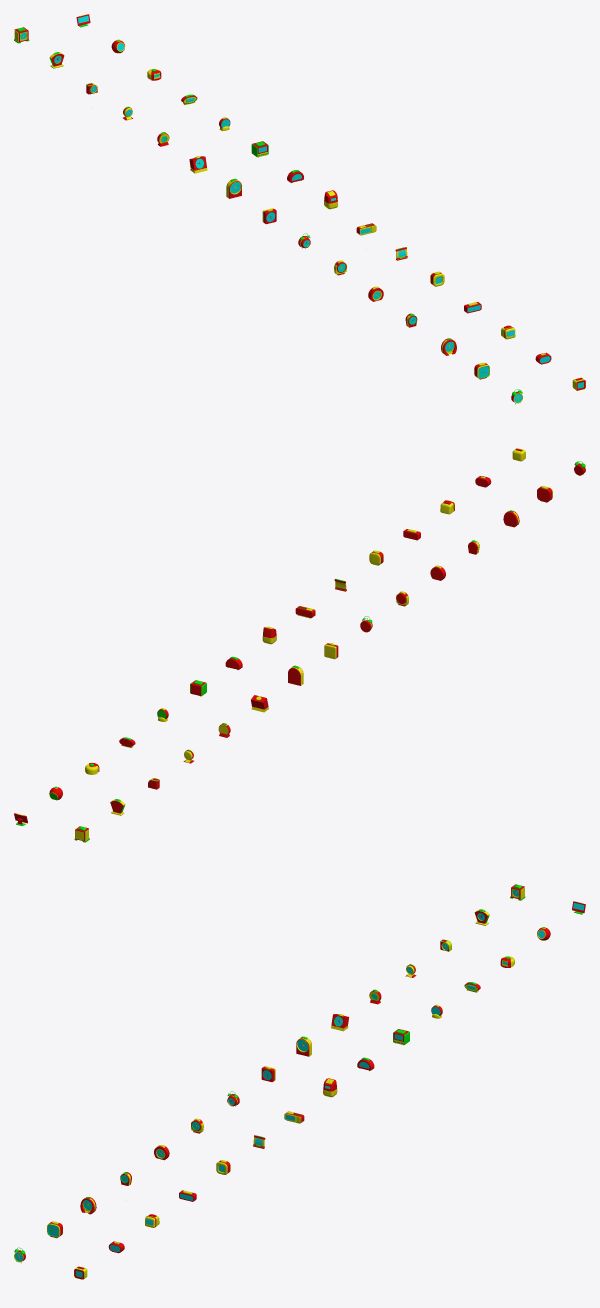
The model's file is alarm_clocks_grp.fbx.
The picture shows the model from 3 angles, top to bottom: view 1: azimuth 30°, elevation 25°; view 2: azimuth 150°, elevation 25°; view 3: azimuth 330°, elevation 25°; orthographic projection.
Bounding box in the file's own units: 127 × 51.35 × 1412.
